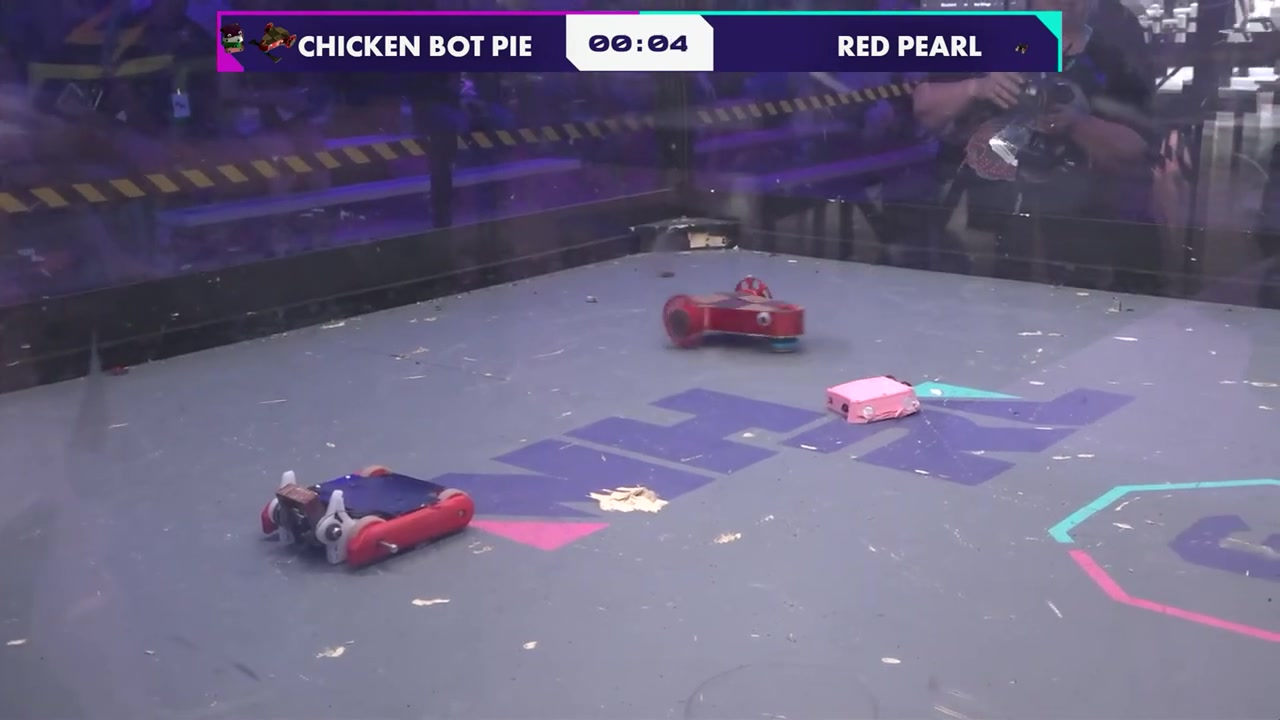combatbot: (264, 467, 468, 567), (660, 274, 805, 354)
minibot: (824, 374, 924, 425)
